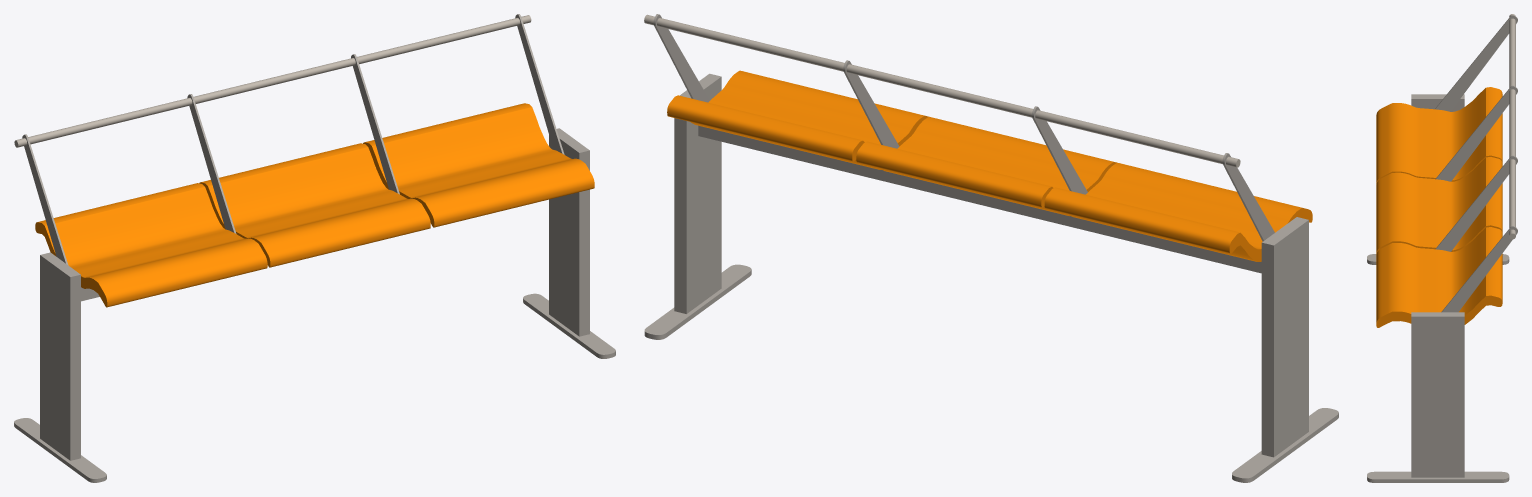
The model's file is jp-bench2.glb.
3 views of the same model, side by side, from view 1: azimuth 30°, elevation 25°; view 2: azimuth 150°, elevation 25°; view 3: azimuth 270°, elevation 25° (orthographic). The views are drawn at different scales.
Parts seen in each view (by area): view 1: Plane060, Plane061, Plane062, Box020, Box018, Cylinder001, Box019, Box021, Plane066, Plane065, Plane064, Plane063; view 2: Plane060, Plane061, Plane062, Box020, Box018, Box022, Cylinder001, Box019, Box021, Plane066, Plane064, Plane065 (+1 smaller); view 3: Box018, Plane061, Plane062, Plane060, Cylinder001, Plane063, Plane065, Plane064, Box019, Plane066, Box020, Box021.
Part boxes in pixels (x1,y1,x2,y2): Plane060: (35,183,267,307); Plane061: (363,103,594,227); Plane062: (199,143,430,267); Box020: (40,252,80,460); Box018: (549,128,589,336); Cylinder001: (14,15,531,147); Box019: (523,293,615,358); Box021: (14,418,106,482); Plane066: (515,14,564,154); Plane065: (351,54,399,194); Plane064: (187,94,236,233); Plane063: (22,134,68,265); Plane060: (1044,162,1312,261); Plane061: (667,70,928,169); Plane062: (856,117,1116,216); Box020: (1261,217,1308,457); Box018: (674,73,721,313); Box022: (698,125,1261,273); Cylinder001: (644,14,1240,167); Box019: (644,264,751,339); Box021: (1232,408,1338,482); Plane066: (653,14,709,102); Plane064: (1032,106,1087,194); Plane065: (843,60,899,148); Box018: (1411,312,1464,477); Plane061: (1376,227,1502,327); Plane062: (1376,157,1502,254); Plane060: (1376,87,1502,184); Cylinder001: (1509,14,1515,239); Plane063: (1435,15,1517,111); Plane065: (1435,155,1517,251); Plane064: (1435,85,1517,181); Box019: (1367,471,1509,482); Plane066: (1441,226,1517,312); Box020: (1411,94,1464,111); Box021: (1367,254,1509,264).
Size of the model in its own units: 1500 by 775 by 425.
